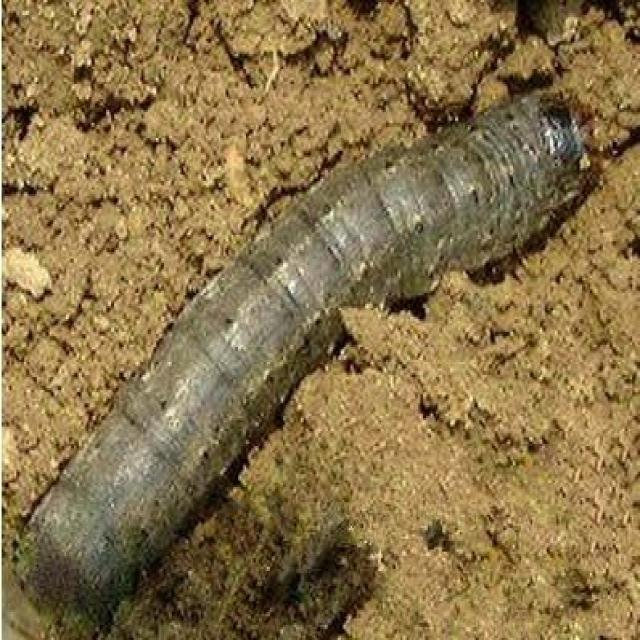black cutworm: (17, 80, 628, 616)
